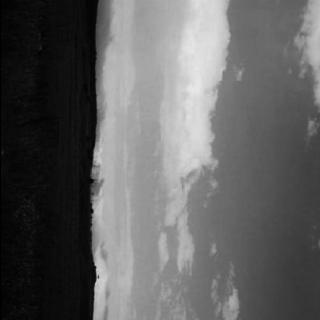Stratus: (94, 0, 320, 320)
